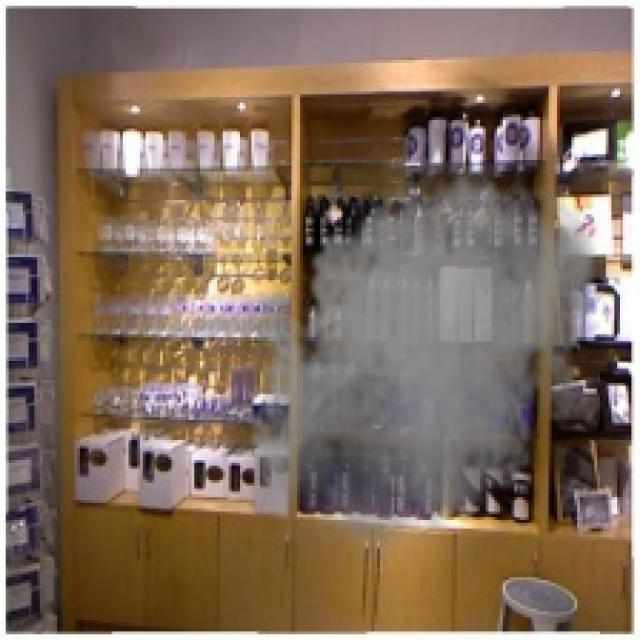smoke: (237, 154, 603, 577)
